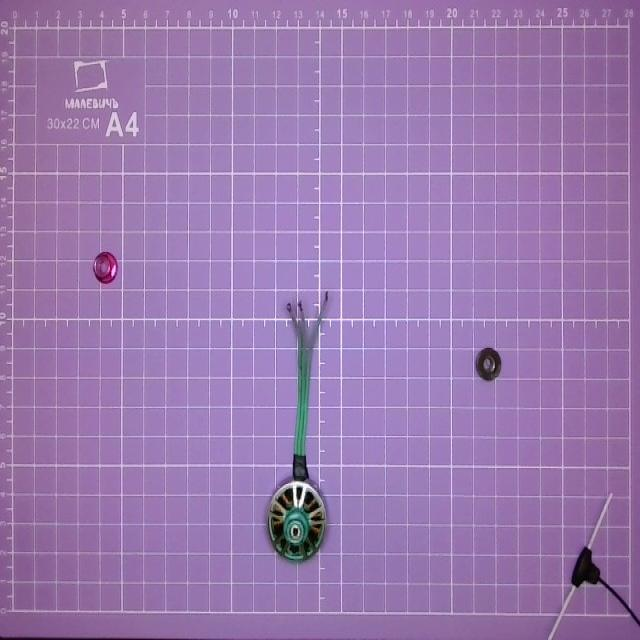antenna: (544, 492, 640, 640)
motor: (268, 282, 329, 561)
screw_M5: (470, 341, 508, 388), (85, 248, 121, 285)
